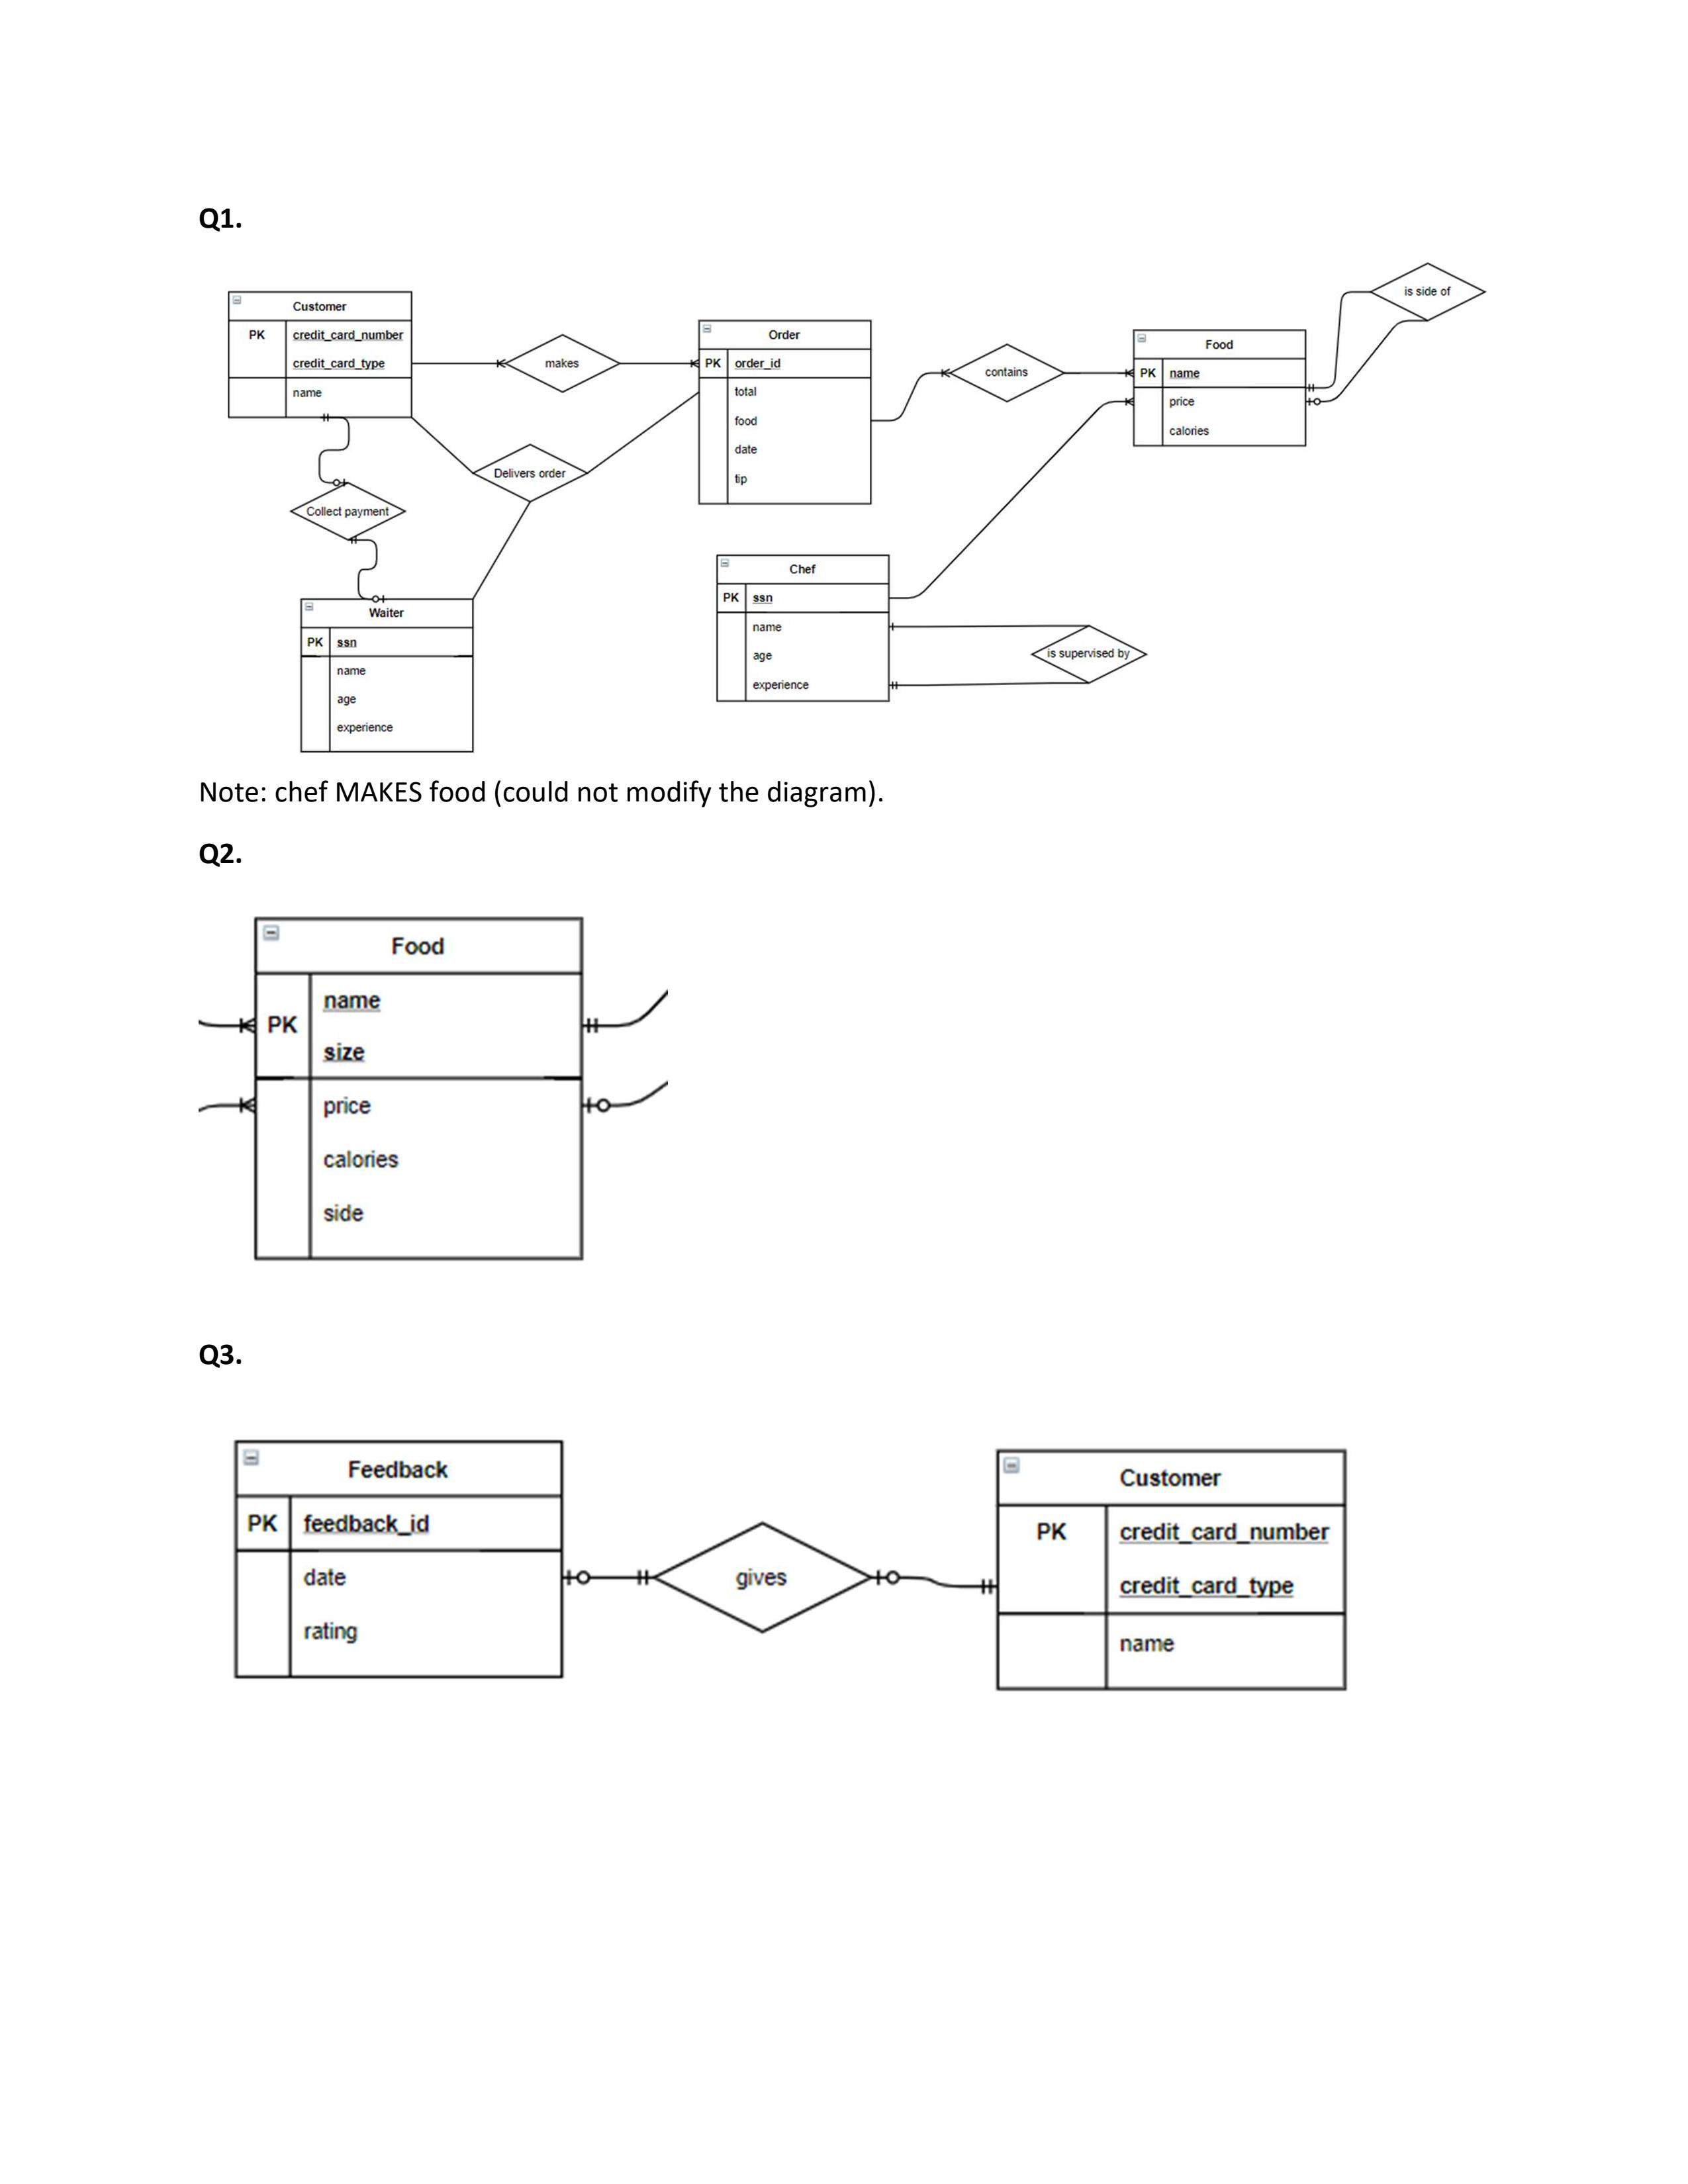Entity: (254, 915, 585, 1262), (993, 1448, 1349, 1691), (234, 1439, 564, 1681), (697, 319, 874, 505), (298, 597, 475, 753), (716, 555, 890, 702), (227, 289, 413, 418), (1131, 328, 1307, 447)
Relationship: (654, 1521, 872, 1636), (1369, 262, 1486, 321), (505, 333, 621, 392), (949, 344, 1064, 402), (1030, 626, 1149, 682), (289, 484, 406, 539), (472, 445, 587, 500)
